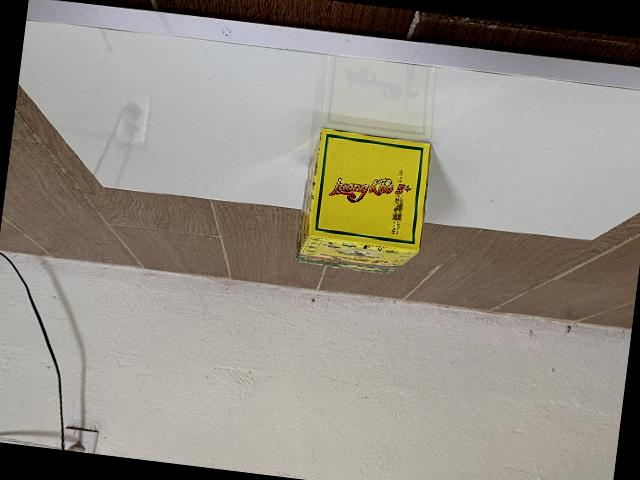luong_kho: (295, 126, 431, 273)
